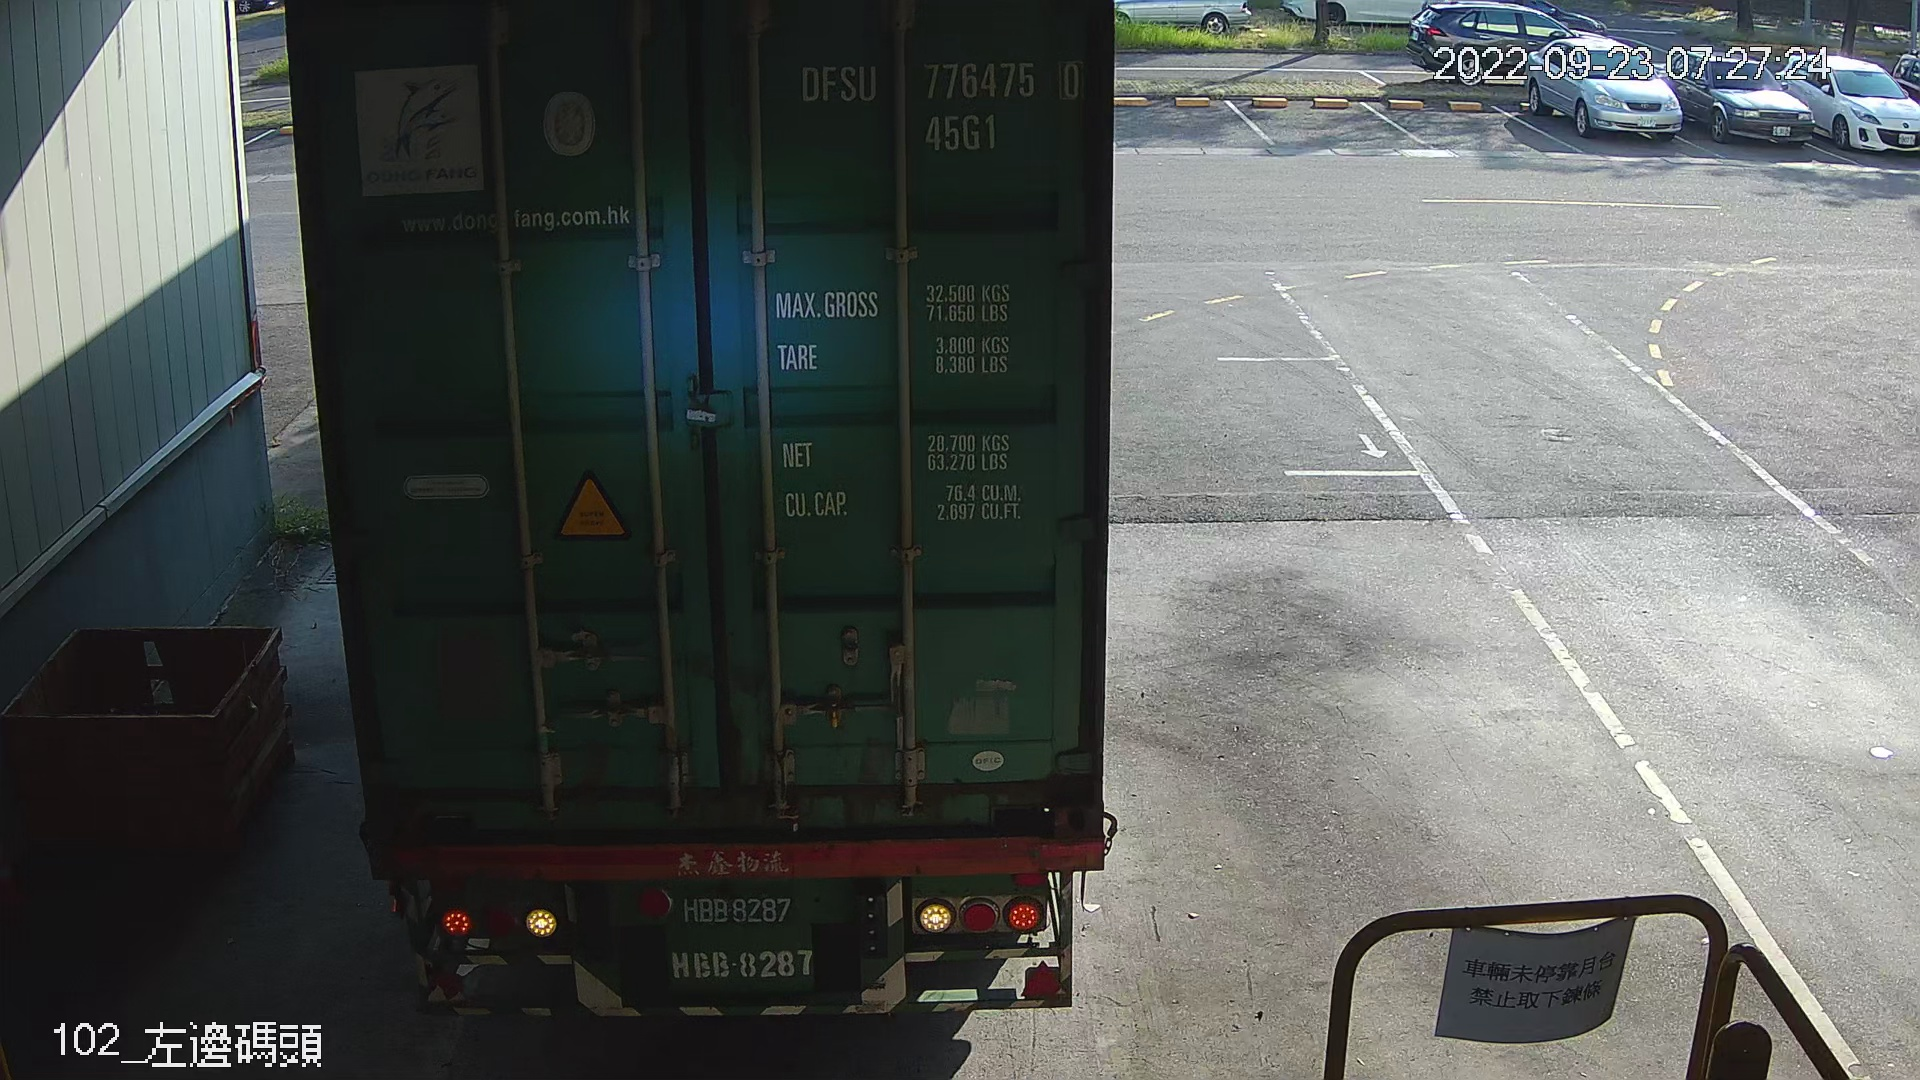container: (978, 131, 1081, 175)
